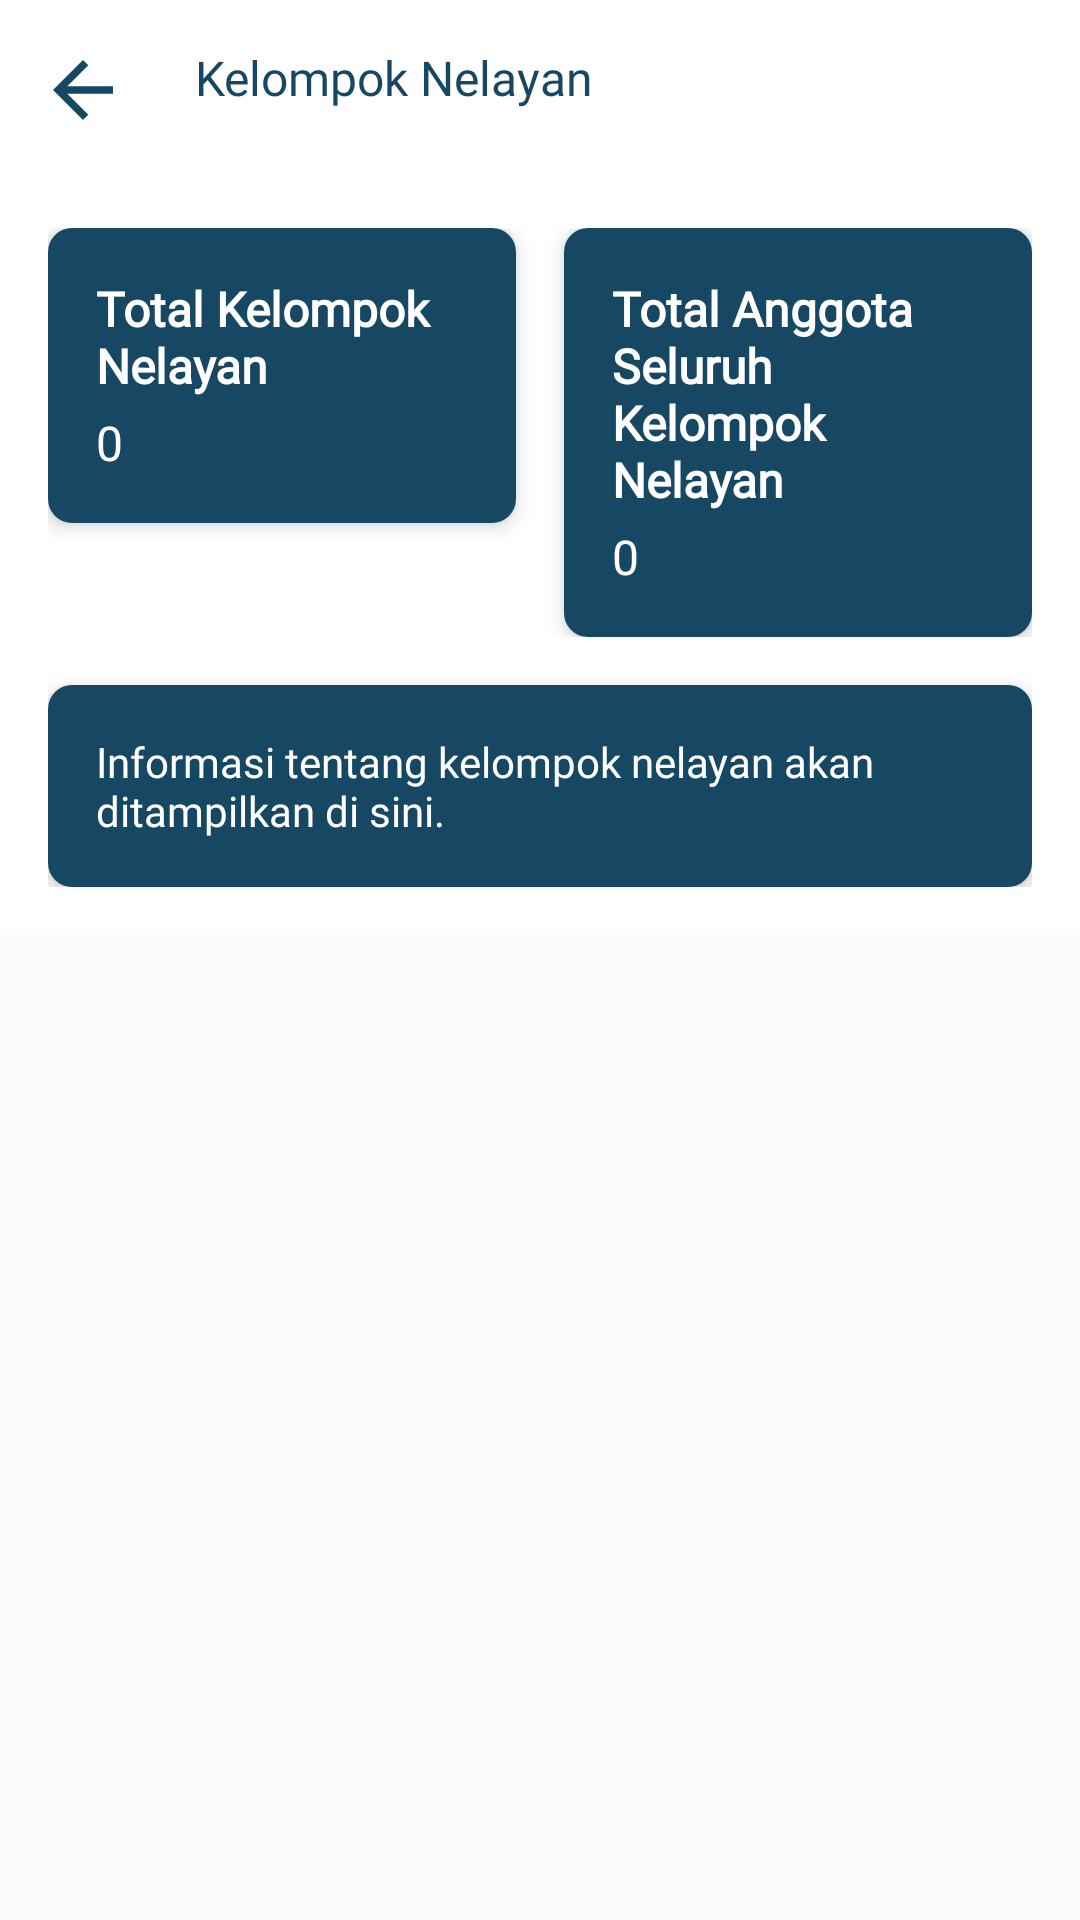

Icon bounding boxes for this 1080*1920 phone screenshot, format bbox=(x1, y1, x2, y2):
Back Icon: bbox=(53, 60, 113, 120)
